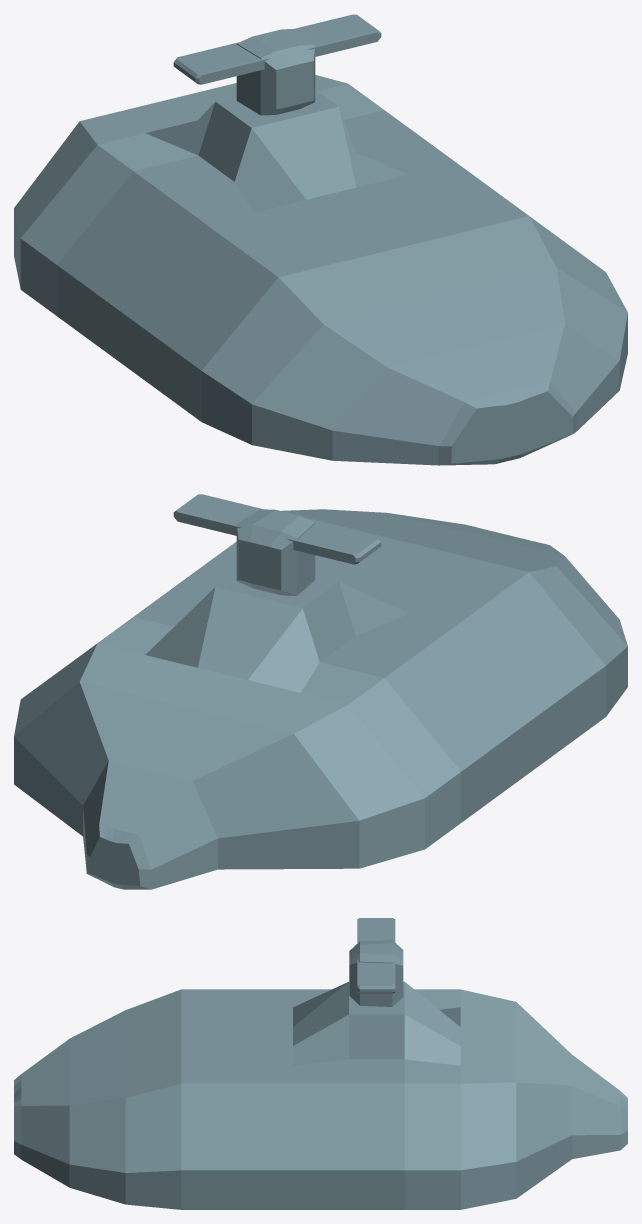
Rendered from ballard_heavy_a.glb.
3 views of the same model, one above another, from view 1: azimuth 30°, elevation 25°; view 2: azimuth 150°, elevation 25°; view 3: azimuth 270°, elevation 25° (orthographic). The views are drawn at different scales.
Visible parts, largest first — view 1: ballard_heavy_a; view 2: ballard_heavy_a; view 3: ballard_heavy_a.
Boxes of the visible parts, x1,y1,x2,y2 form: ballard_heavy_a: [14, 14, 627, 465]; ballard_heavy_a: [14, 494, 627, 889]; ballard_heavy_a: [14, 918, 627, 1209].
Size of the model in its own units: 4.4 by 2.62 by 7.5.
